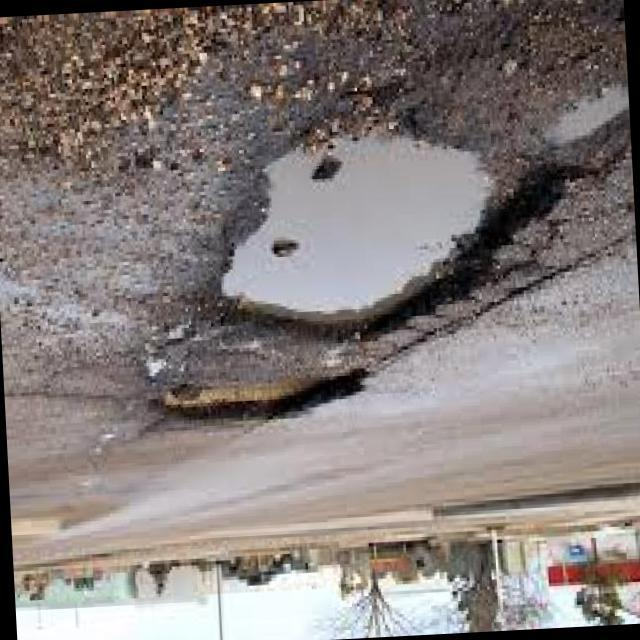pothole: (188, 103, 576, 360), (152, 361, 384, 446)
